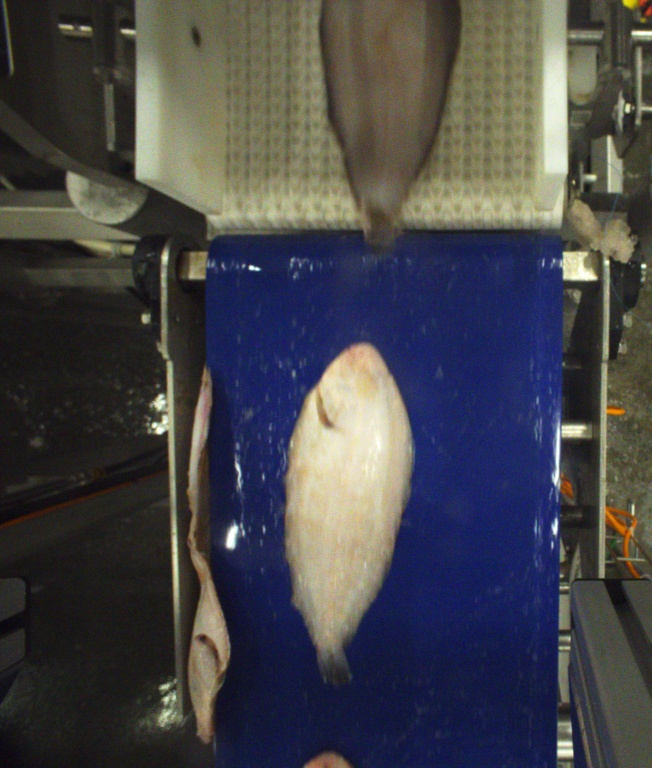SOL: (318, 0, 462, 249)
